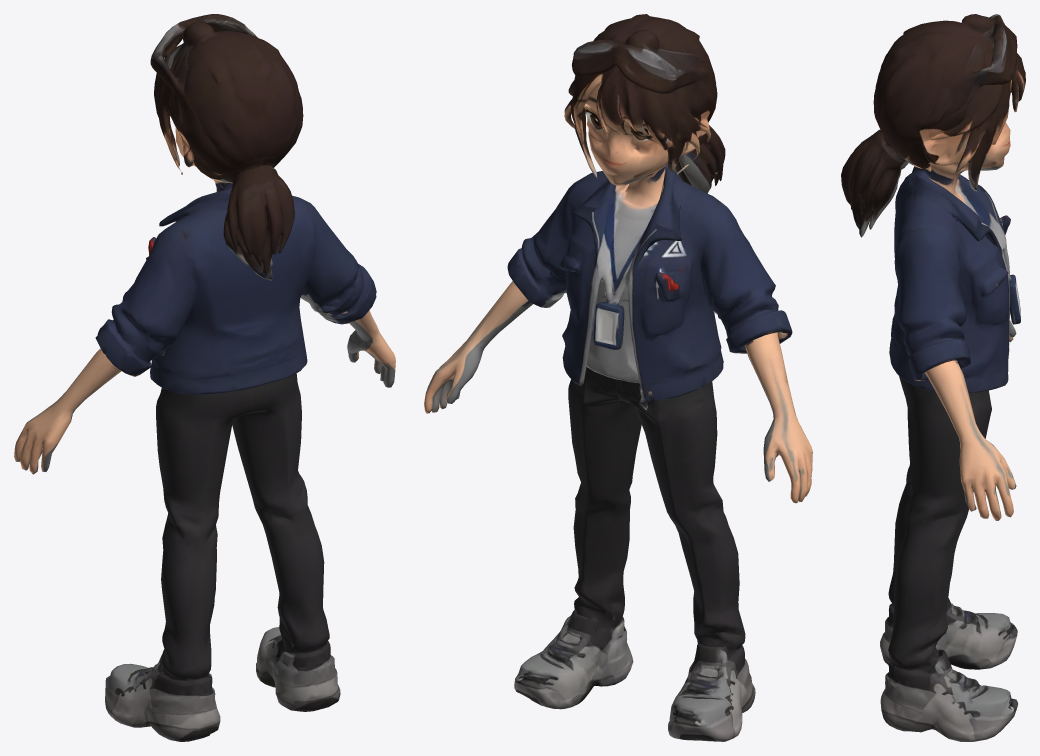
File: saeki.glb
The picture shows the model from 3 angles, left to right: view 1: azimuth 30°, elevation 25°; view 2: azimuth 150°, elevation 25°; view 3: azimuth 270°, elevation 25°; orthographic projection. The views are drawn at different scales.
Visible parts, largest first — view 1: tripo_node_7077a674-db4d-404d-afd7-410398af43fa; view 2: tripo_node_7077a674-db4d-404d-afd7-410398af43fa; view 3: tripo_node_7077a674-db4d-404d-afd7-410398af43fa.
Part boxes in pixels (x1=…): tripo_node_7077a674-db4d-404d-afd7-410398af43fa: x1=14, y1=14, x2=395, y2=741; tripo_node_7077a674-db4d-404d-afd7-410398af43fa: x1=424, y1=14, x2=812, y2=741; tripo_node_7077a674-db4d-404d-afd7-410398af43fa: x1=841, y1=14, x2=1025, y2=741.
Size of the model in its own units: 0.9177 by 1.6 by 0.399.
1 material, 1 textured.
